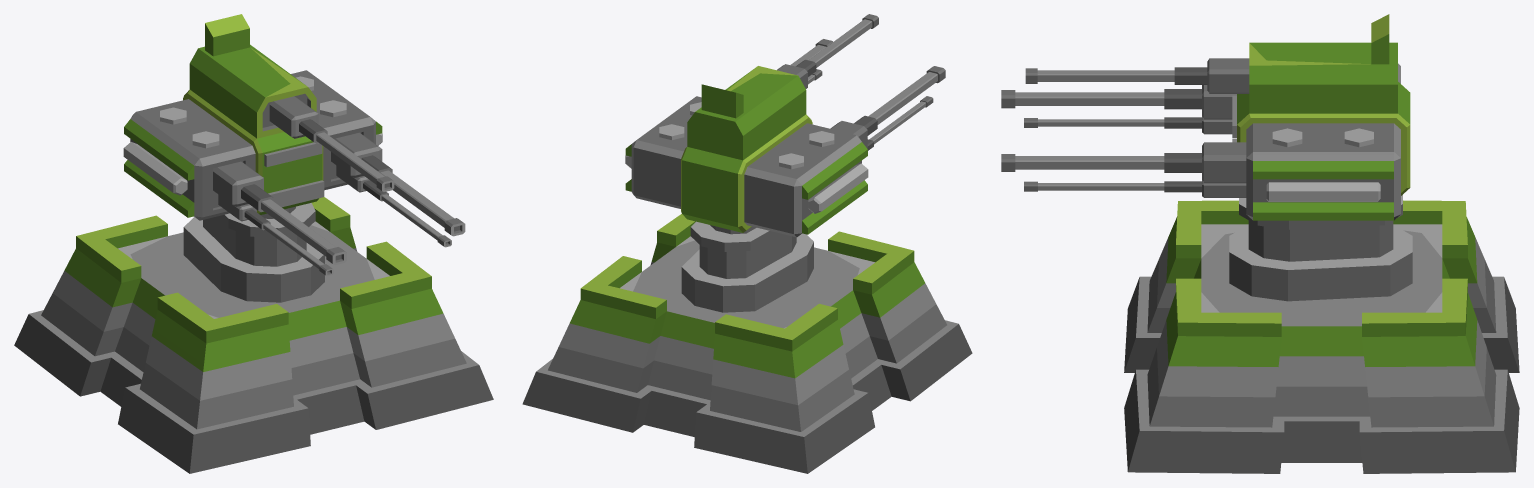
File: tower_rapid_green_3.fbx
3 renders of one model, left to right at view 1: azimuth 30°, elevation 25°; view 2: azimuth 150°, elevation 25°; view 3: azimuth 270°, elevation 25°, orthographic. The views are drawn at different scales.
Parts seen in each view (by area): view 1: tower_rapid_green_3, top_rapid_green_3; view 2: tower_rapid_green_3, top_rapid_green_3; view 3: tower_rapid_green_3, top_rapid_green_3.
Part boxes in pixels (<box>): tower_rapid_green_3: <box>14,197,493,473</box>; top_rapid_green_3: <box>123,14,465,302</box>; tower_rapid_green_3: <box>522,214,972,473</box>; top_rapid_green_3: <box>625,14,945,312</box>; tower_rapid_green_3: <box>1124,200,1519,473</box>; top_rapid_green_3: <box>1001,14,1412,301</box>.
Bounding box in the file's own units: 171 × 175 × 224.
